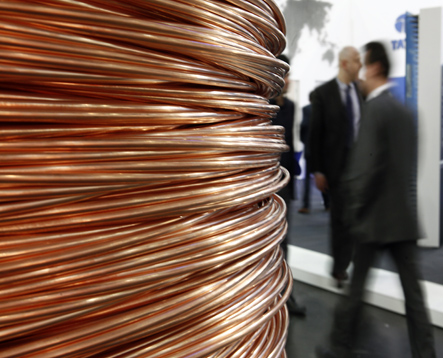Nonrec_Tangler: (1, 4, 316, 350)
